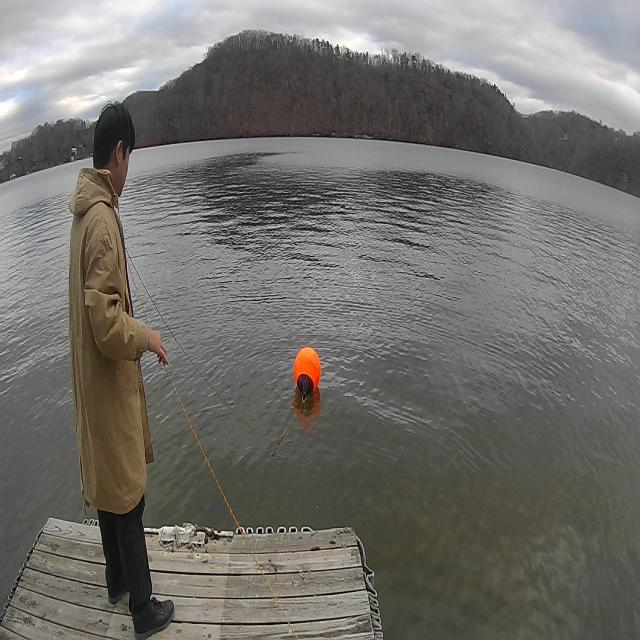Buoy: (288, 335, 326, 411)
